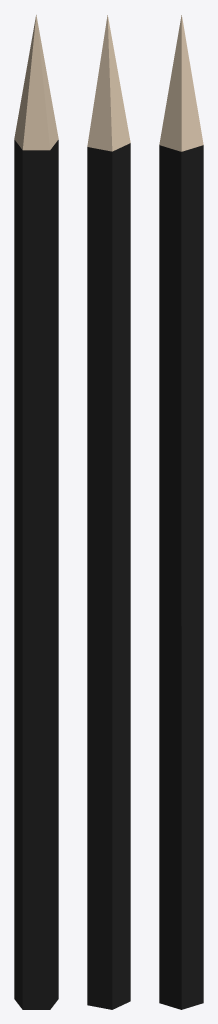
The model's file is SM_pencil_01.fbx.
The picture shows the model from 3 angles, left to right: view 1: azimuth 90°, elevation 25°; view 2: azimuth 210°, elevation 25°; view 3: azimuth 270°, elevation 25°; orthographic projection.
Visible parts, largest first — view 1: Cylinder005; view 2: Cylinder005; view 3: Cylinder005.
Boxes of the visible parts, x1,y1,x2,y2 form: Cylinder005: (14,15,58,1009); Cylinder005: (87,15,130,1009); Cylinder005: (159,15,203,1009).
Bounding box in the file's own units: 0.3903 × 10.05 × 0.4104.
